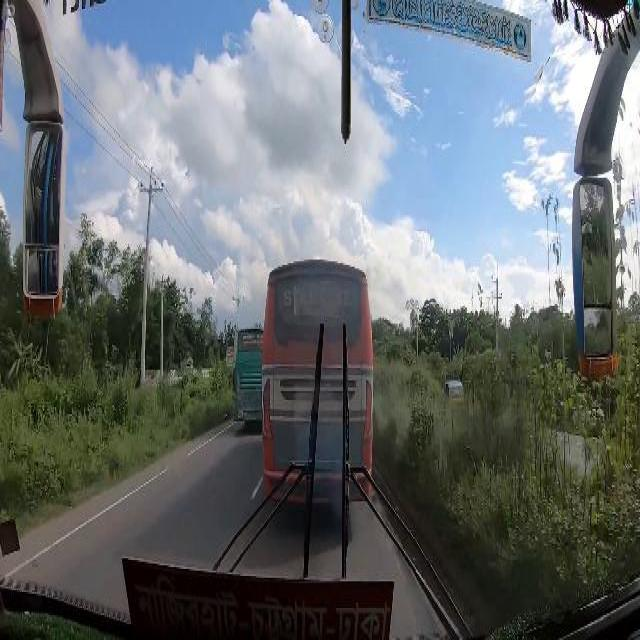bus: (264, 259, 370, 502), (232, 330, 262, 424)
pickup: (443, 380, 465, 406)
